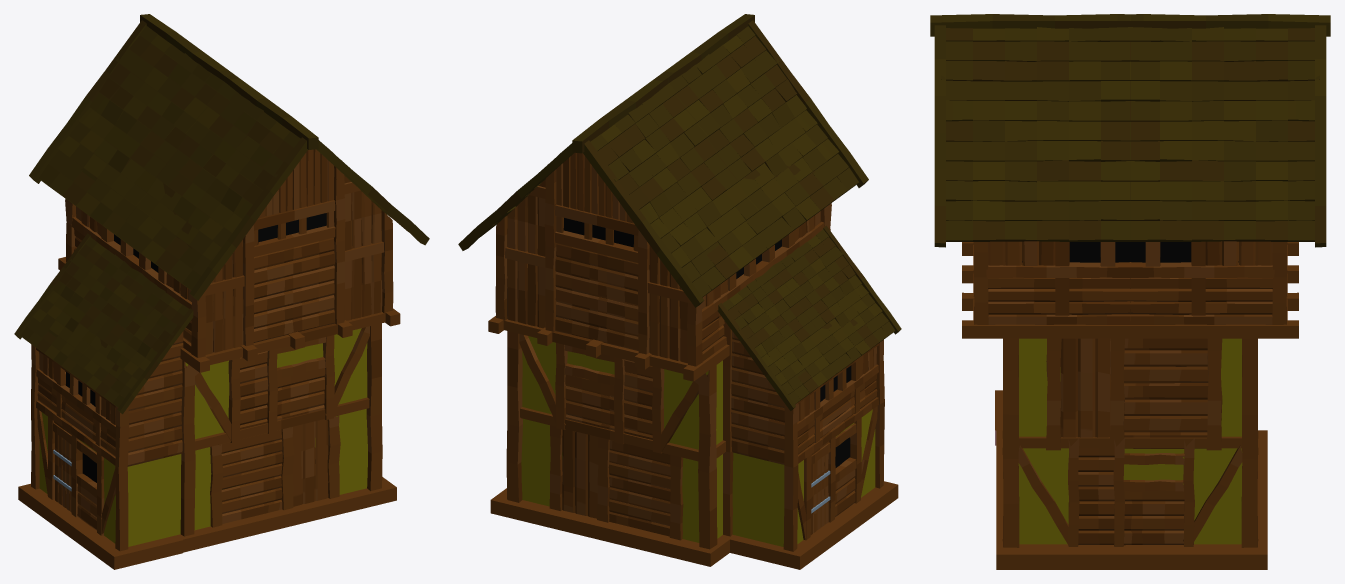
Rendered from castle_town_house_6.fbx.
3 views of the same model, side by side, from view 1: azimuth 30°, elevation 25°; view 2: azimuth 150°, elevation 25°; view 3: azimuth 270°, elevation 25° (orthographic). The views are drawn at different scales.
Visible parts, largest first — view 1: house 1.001; view 2: house 1.001; view 3: house 1.001.
Part boxes in pixels (<box>): house 1.001: <box>14,14,429,569</box>; house 1.001: <box>458,14,901,569</box>; house 1.001: <box>930,14,1330,569</box>.
Bounding box in the file's own units: 5985 × 8058 × 5940.
